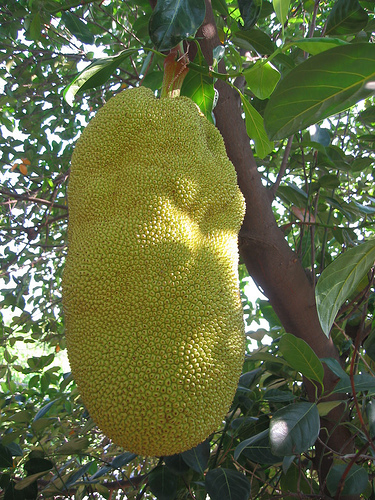jackfruit: (61, 86, 247, 461)
